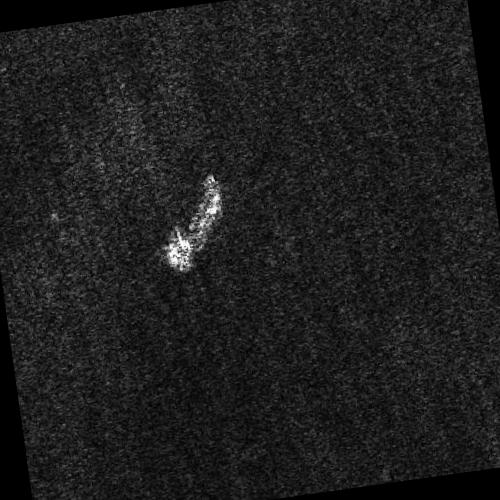ship: (168, 177, 222, 273)
